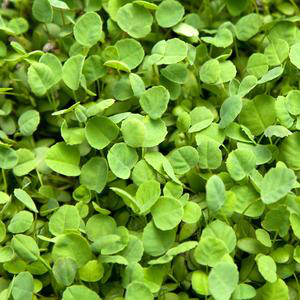clover: (1, 3, 300, 299)
